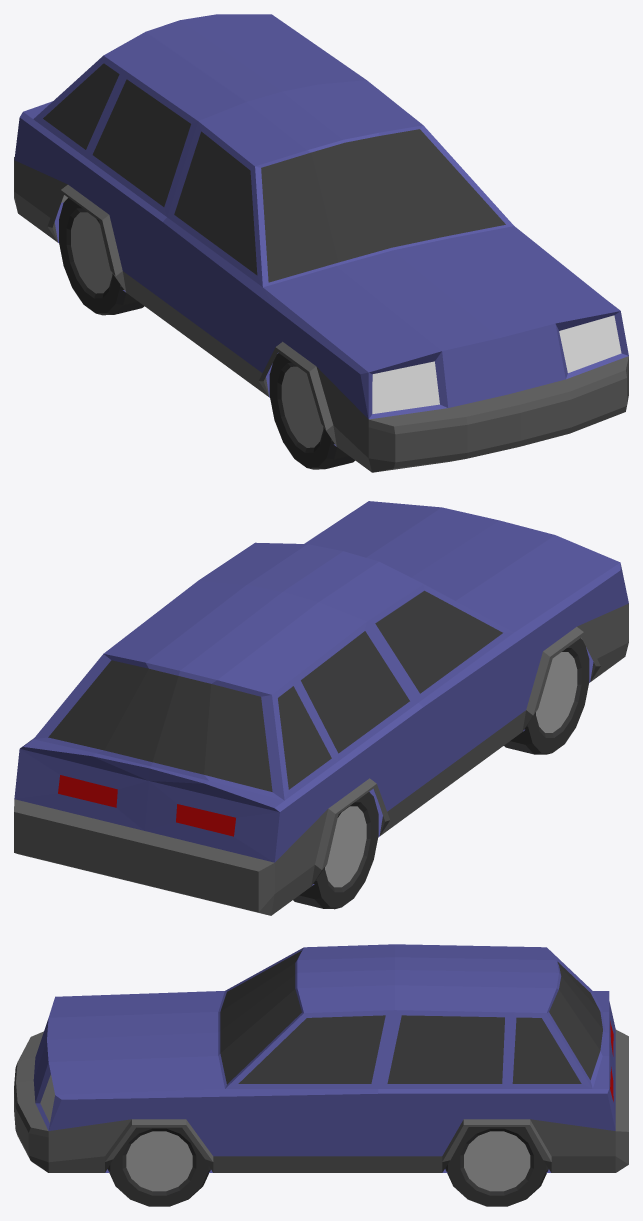
Rendered from Car_V1.fbx.
3 renders of one model, top to bottom at view 1: azimuth 30°, elevation 25°; view 2: azimuth 150°, elevation 25°; view 3: azimuth 270°, elevation 25°, orthographic. The views are drawn at different scales.
Visible parts, largest first — view 1: Car_V1; view 2: Car_V1; view 3: Car_V1.
Boxes of the visible parts, box(x1,y1,x2,y2) form: Car_V1: box(14, 14, 628, 472); Car_V1: box(14, 501, 628, 915); Car_V1: box(14, 944, 628, 1206).
Bounding box in the file's own units: 3.04 × 2.49 × 7.36.
